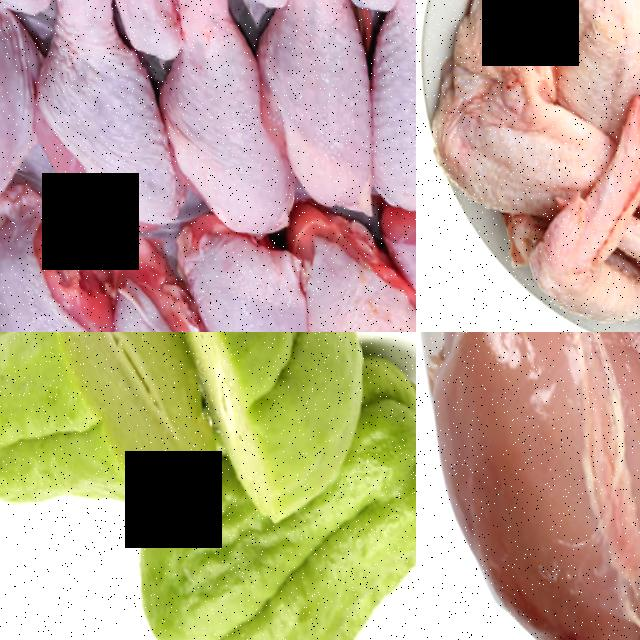chayote: (105, 478, 416, 640), (0, 332, 195, 510), (190, 332, 370, 493)
chicken breast: (416, 332, 640, 640)
chicken thigh: (10, 0, 169, 233), (136, 0, 276, 237), (253, 0, 378, 217), (0, 198, 120, 332), (287, 203, 399, 332), (185, 224, 314, 332), (354, 0, 416, 202), (0, 0, 45, 224), (97, 255, 227, 332)
chicken wing: (501, 91, 640, 330), (449, 0, 640, 125)
